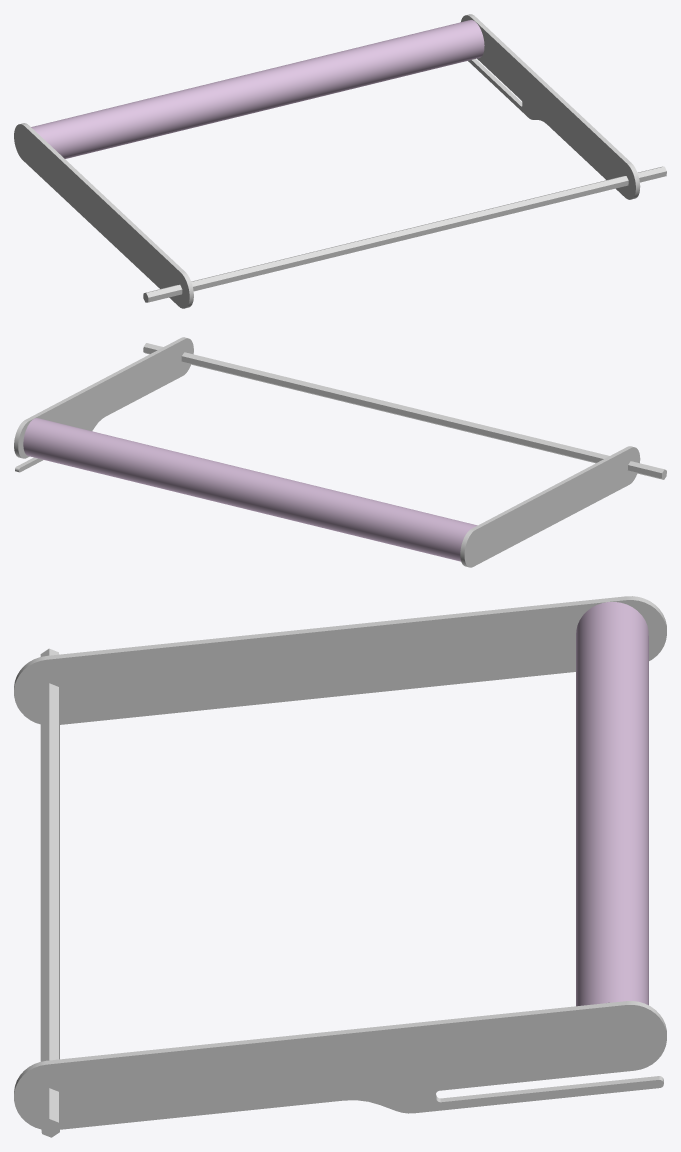
The picture shows the model from 3 angles, top to bottom: view 1: azimuth 30°, elevation 25°; view 2: azimuth 150°, elevation 25°; view 3: azimuth 270°, elevation 25°; orthographic projection. The views are drawn at different scales.
Parts seen in each view (by area): view 1: Part 3; view 2: Part 3; view 3: Part 3.
Part boxes in pixels (box(x1,y1,x2,y2)): Part 3: box(14, 14, 666, 308); Part 3: box(14, 337, 666, 567); Part 3: box(14, 596, 666, 1137).
Bounding box in the file's own units: 0.7747 × 0.0965 × 0.4545.
